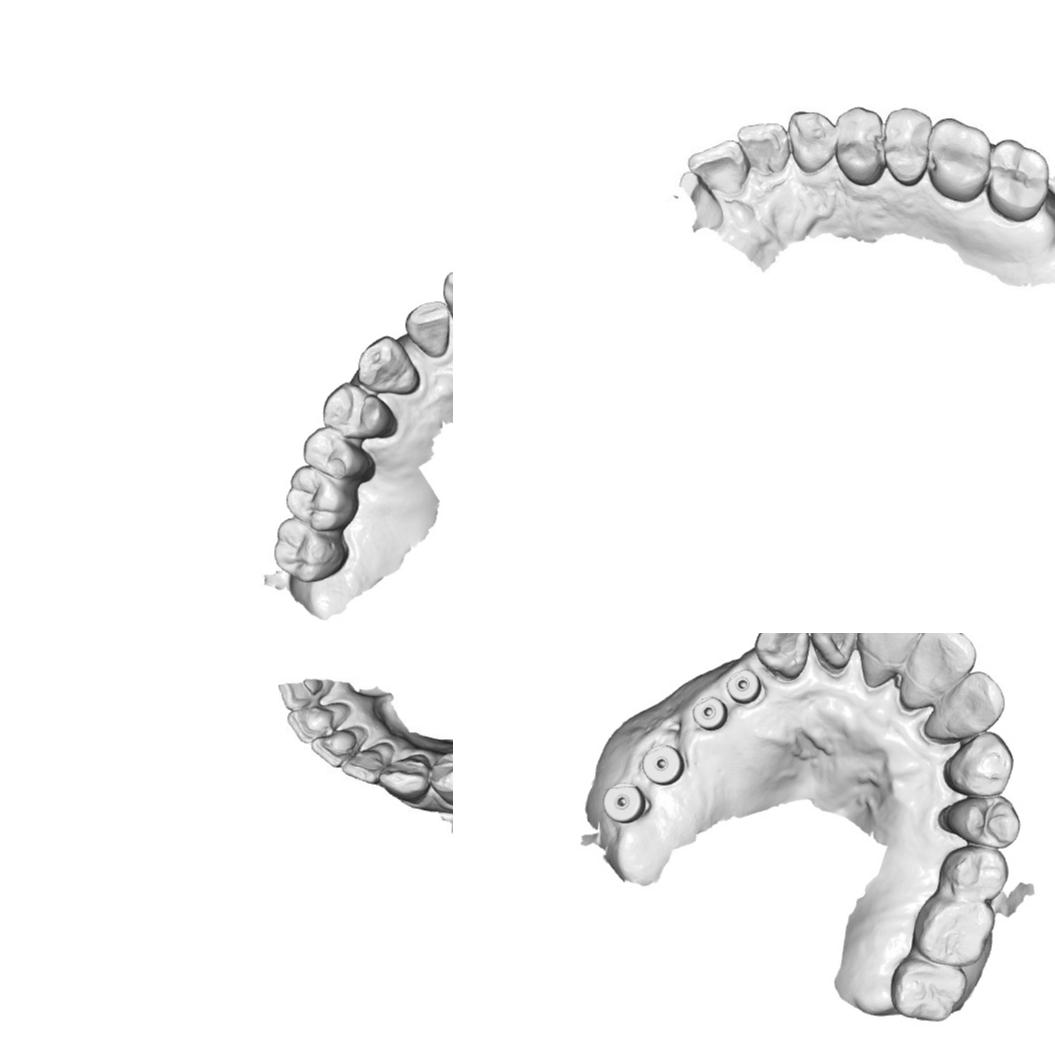canine: (941, 730, 1014, 797), (355, 333, 420, 397), (787, 108, 837, 173), (754, 633, 810, 680), (377, 753, 430, 800)
implant: (602, 780, 650, 825), (638, 744, 686, 786), (724, 668, 764, 706), (691, 696, 728, 732)
incisor: (942, 669, 1006, 736), (909, 633, 977, 692), (687, 139, 746, 196), (735, 120, 791, 179), (857, 633, 925, 680), (404, 296, 452, 356), (309, 726, 363, 772), (286, 700, 341, 745), (338, 740, 393, 784), (809, 633, 859, 676)
molar: (912, 896, 995, 966), (983, 138, 1048, 221), (926, 119, 990, 203), (272, 517, 348, 584), (283, 463, 357, 531), (890, 960, 968, 1022)
premolar: (320, 378, 396, 444), (936, 793, 1022, 849), (300, 424, 372, 481), (937, 844, 1010, 900), (835, 105, 884, 186), (884, 103, 929, 187), (427, 743, 453, 808)
